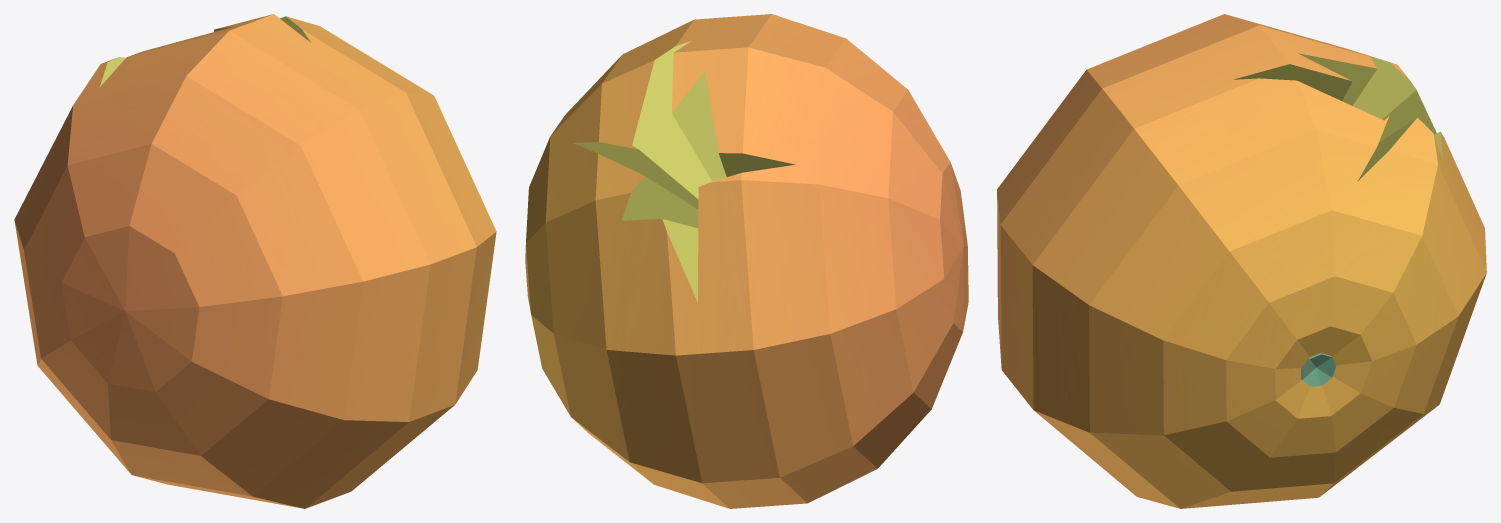
File: SM_Punctured_Orange.fbx
3 renders of one model, left to right at view 1: azimuth 30°, elevation 25°; view 2: azimuth 150°, elevation 25°; view 3: azimuth 270°, elevation 25°, orthographic.
Parts seen in each view (by area): view 1: SM_Punctured_Orange; view 2: SM_Punctured_Orange; view 3: SM_Punctured_Orange.
Boxes of the visible parts, <box> form: SM_Punctured_Orange: <box>14,14,496,508</box>; SM_Punctured_Orange: <box>525,14,968,508</box>; SM_Punctured_Orange: <box>997,14,1486,508</box>.
Size of the model in its own units: 0.0911 by 0.0959 by 0.0989.
